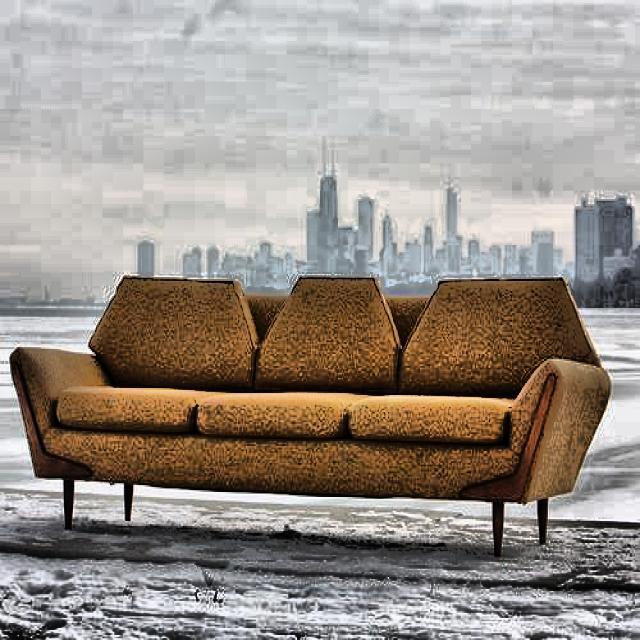sofa: (10, 277, 612, 555)
